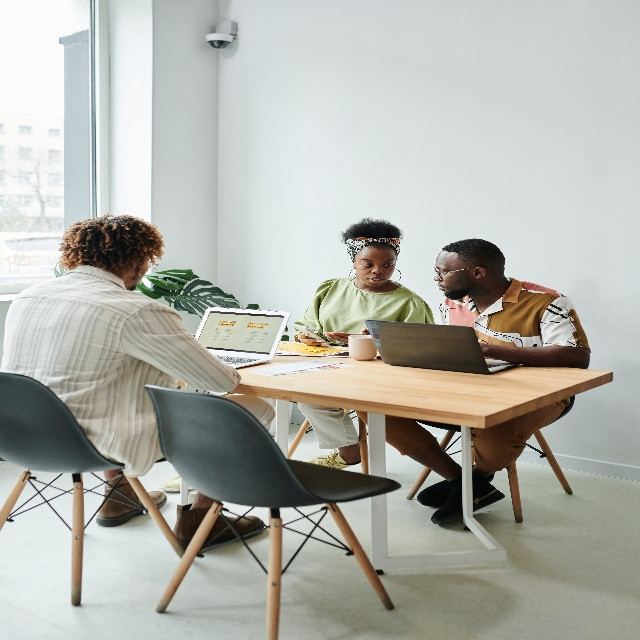Gafas: (434, 264, 472, 282), (149, 259, 158, 271)
Sin_guantes: (323, 326, 367, 344), (299, 331, 325, 346)
